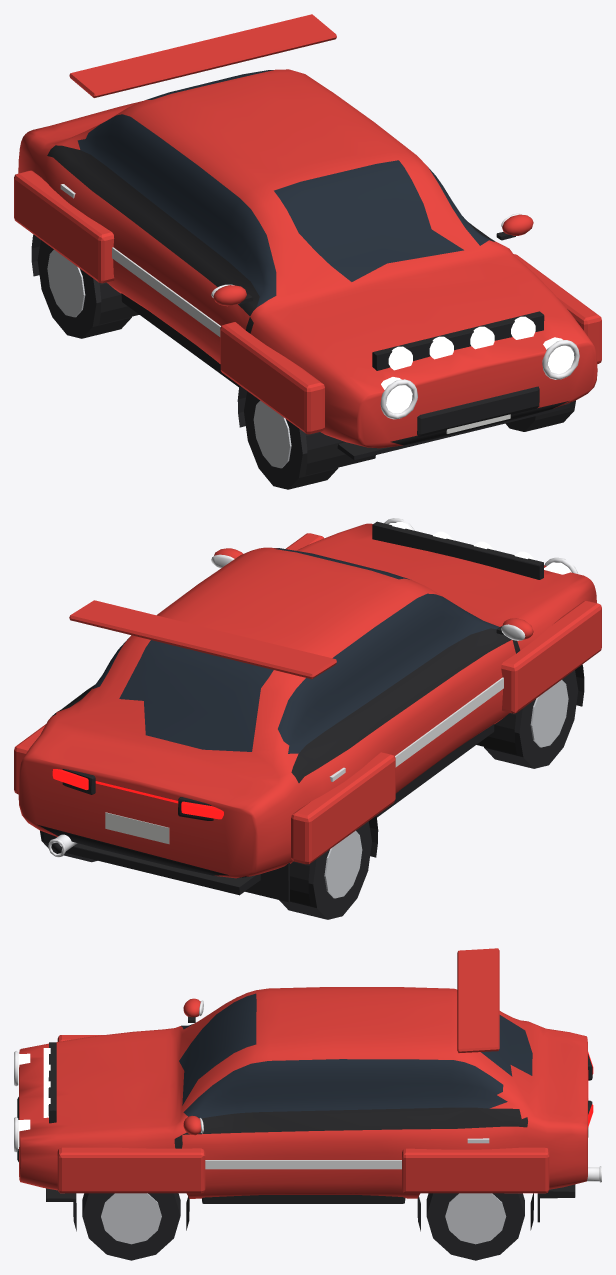
Rendered from gruppo_lod.glb.
The picture shows the model from 3 angles, top to bottom: view 1: azimuth 30°, elevation 25°; view 2: azimuth 150°, elevation 25°; view 3: azimuth 270°, elevation 25°; orthographic projection. The views are drawn at different scales.
Parts seen in each view (by area): view 1: body, wheel_fr, wheel_rr, wheel_fl; view 2: body, wheel_fr, wheel_rr; view 3: body, wheel_fl, wheel_rl.
Boxes of the visible parts, bbox=[...] form: body: bbox=[14, 14, 601, 475]; wheel_fr: bbox=[244, 391, 338, 489]; wheel_rr: bbox=[37, 240, 131, 338]; wheel_fl: bbox=[505, 400, 575, 431]; body: bbox=[14, 518, 601, 905]; wheel_fr: bbox=[484, 670, 578, 768]; wheel_rr: bbox=[279, 821, 371, 919]; body: bbox=[14, 948, 601, 1231]; wheel_fl: bbox=[82, 1193, 180, 1260]; wheel_rl: bbox=[426, 1193, 524, 1260].
Size of the model in its own units: 2.18 by 1.63 by 4.18.
